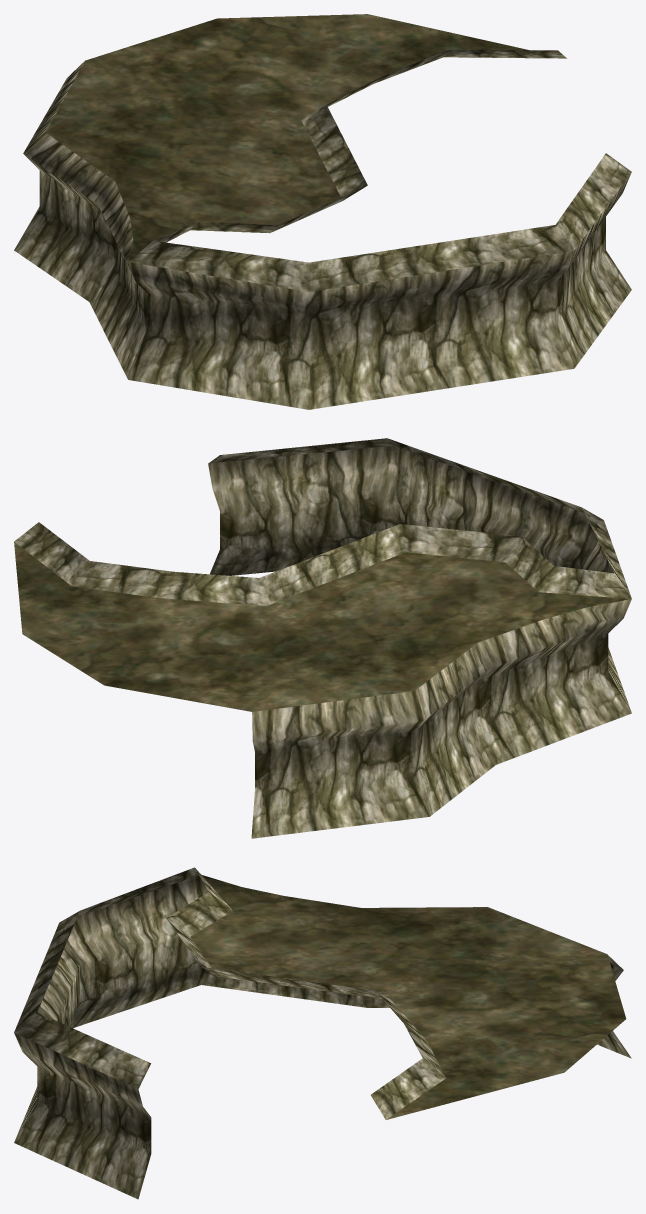
The model's file is CB_NEWPLAYSURFACE_CB_PLAYSURFACE103.fbx.
3 renders of one model, top to bottom at view 1: azimuth 30°, elevation 25°; view 2: azimuth 150°, elevation 25°; view 3: azimuth 270°, elevation 25°, orthographic. The views are drawn at different scales.
Parts seen in each view (by area): view 1: CB_NEWPLAYSURFACE_CB_PLAYSURFACE103; view 2: CB_NEWPLAYSURFACE_CB_PLAYSURFACE103; view 3: CB_NEWPLAYSURFACE_CB_PLAYSURFACE103.
Boxes of the visible parts, <box> form: CB_NEWPLAYSURFACE_CB_PLAYSURFACE103: <box>14,14,631,409</box>; CB_NEWPLAYSURFACE_CB_PLAYSURFACE103: <box>14,438,631,838</box>; CB_NEWPLAYSURFACE_CB_PLAYSURFACE103: <box>14,867,631,1199</box>.
Size of the model in its own units: 143225 by 34699 by 152386.
2 materials, 2 textured.
